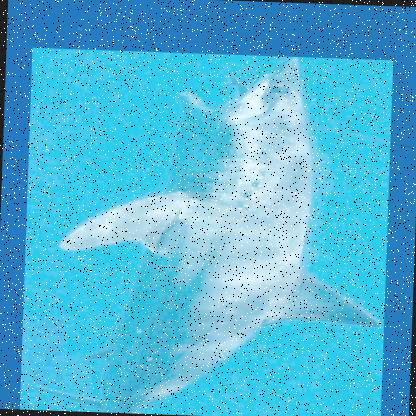mako-shark: (17, 47, 393, 415)
